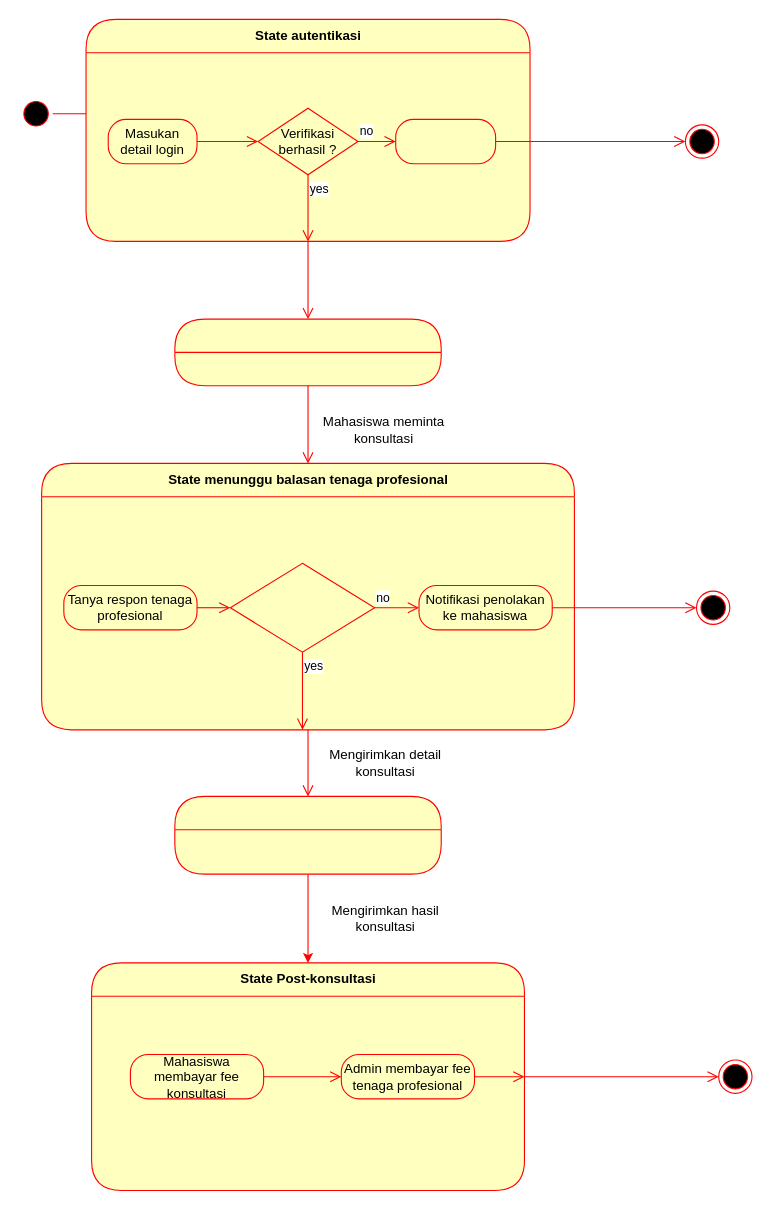
The diagram is 771 pixels wide and 1210 high, and some of its shapes have lost their labels. The centre of each missing label's shape, as x and y in pixels:
Login gagal: the point at 445,141
Respon tenaga profesional: the point at 302,607
State Konsultasi: the point at 307,834
State menunggu permintaan konsultasi: the point at 307,352
